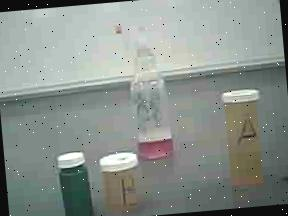Bottle A: (219, 87, 269, 190)
Bottle B: (97, 150, 143, 214)
Bottle C: (53, 150, 98, 216)
hazard: (112, 20, 178, 160)
